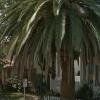Palm tree: (18, 3, 92, 85)
